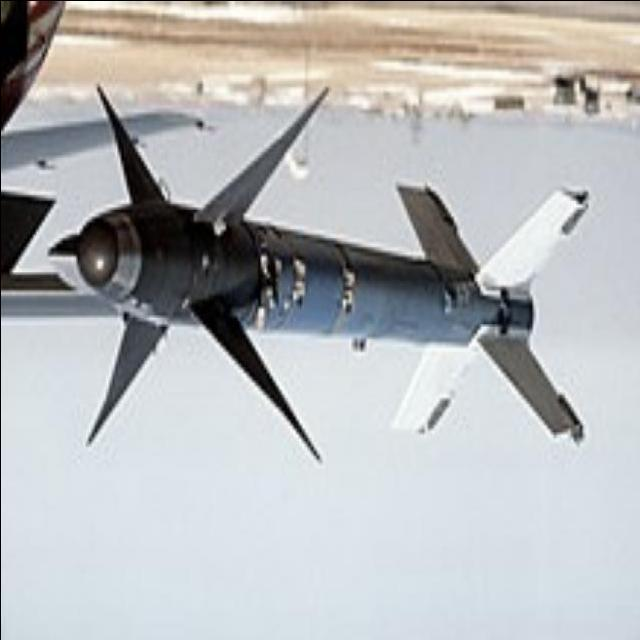missile: (72, 79, 598, 462)
